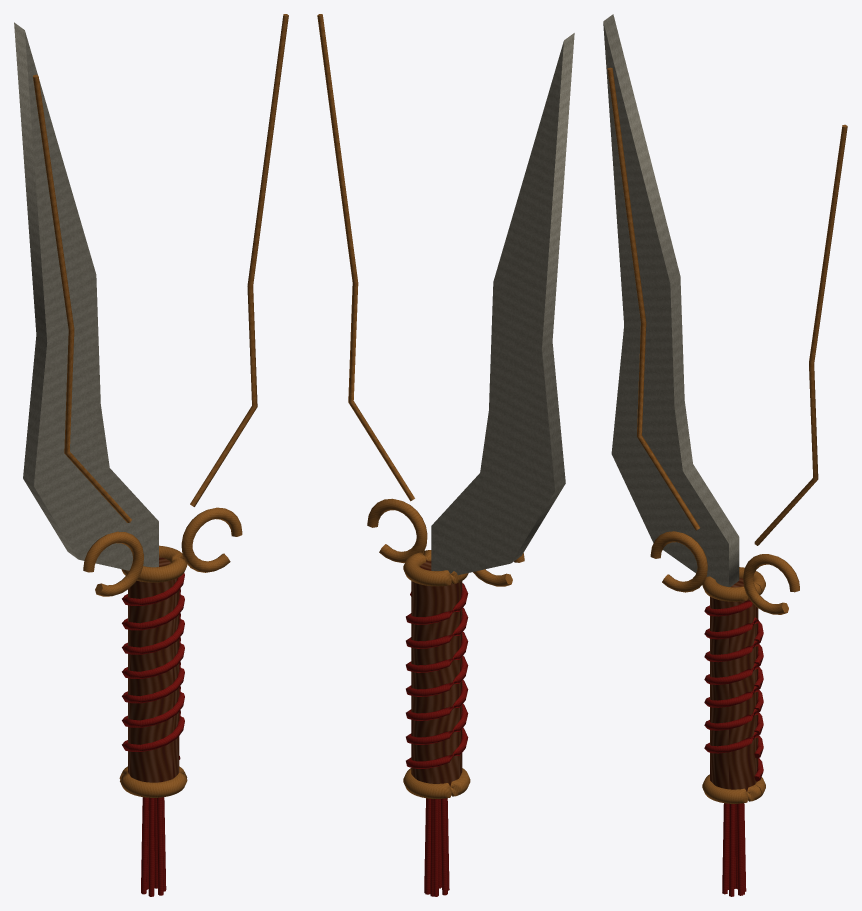
Rendered from damaged.glb.
The picture shows the model from 3 angles, left to right: view 1: azimuth 30°, elevation 25°; view 2: azimuth 150°, elevation 25°; view 3: azimuth 330°, elevation 25°; orthographic projection. The views are drawn at different scales.
Parts seen in each view (by area): view 1: Silver_resonating_prong, Carved_wood_grip, Prong_recessed_gold_line.001, Prong_recessed_gold_line, Scroll_guard, Scroll_guard.001, Gold_endcap, Gold_endcap.001, Red_tassel.004, Red_tassel.005, Red_grip_lacing, Red_grip_lacing.001 (+6 smaller); view 2: Silver_resonating_prong, Carved_wood_grip, Prong_recessed_gold_line.001, Scroll_guard.001, Gold_endcap.001, Gold_endcap, Red_tassel.003, Red_grip_lacing.005, Red_grip_lacing, Red_grip_lacing.003, Red_grip_lacing.001, Red_grip_lacing.006 (+3 smaller); view 3: Silver_resonating_prong, Carved_wood_grip, Prong_recessed_gold_line, Prong_recessed_gold_line.001, Scroll_guard.001, Scroll_guard, Gold_endcap, Gold_endcap.001, Red_grip_lacing, Red_grip_lacing.001, Red_tassel.006, Red_grip_lacing.004 (+6 smaller).
Part boxes in pixels (box(x1,y1,x2,y2)): Silver_resonating_prong: box(14, 22, 158, 570); Carved_wood_grip: box(128, 557, 179, 782); Prong_recessed_gold_line.001: box(190, 14, 288, 506); Prong_recessed_gold_line: box(33, 74, 131, 522); Scroll_guard: box(83, 531, 143, 596); Scroll_guard.001: box(181, 507, 242, 572); Gold_endcap: box(119, 766, 187, 797); Gold_endcap.001: box(121, 545, 187, 582); Red_tassel.004: box(148, 797, 154, 896); Red_tassel.005: box(156, 797, 163, 895); Red_grip_lacing: box(122, 710, 184, 759); Red_grip_lacing.001: box(122, 686, 184, 735); Silver_resonating_prong: box(431, 33, 574, 575); Carved_wood_grip: box(411, 560, 462, 786); Prong_recessed_gold_line.001: box(317, 14, 414, 501); Scroll_guard.001: box(367, 498, 427, 563); Gold_endcap.001: box(403, 550, 468, 586); Gold_endcap: box(403, 768, 470, 798); Red_tassel.003: box(440, 798, 447, 895); Red_grip_lacing.005: box(406, 592, 468, 648); Red_grip_lacing: box(406, 728, 468, 768); Red_grip_lacing.003: box(406, 656, 468, 696); Red_grip_lacing.001: box(406, 704, 468, 744); Red_grip_lacing.006: box(406, 583, 468, 624); Silver_resonating_prong: box(603, 14, 739, 586); Carved_wood_grip: box(710, 578, 758, 791); Prong_recessed_gold_line: box(607, 67, 700, 530); Prong_recessed_gold_line.001: box(754, 124, 847, 545); Scroll_guard.001: box(743, 554, 799, 614); Scroll_guard: box(650, 531, 707, 592); Gold_endcap: box(702, 774, 765, 803); Gold_endcap.001: box(702, 567, 765, 601); Red_grip_lacing: box(704, 732, 763, 781); Red_grip_lacing.001: box(704, 709, 763, 758); Red_tassel.006: box(736, 803, 743, 895); Red_grip_lacing.004: box(704, 640, 763, 689).
Size of the model in its own units: 0.2924 by 0.9601 by 0.066.
4 materials, 4 textured.
